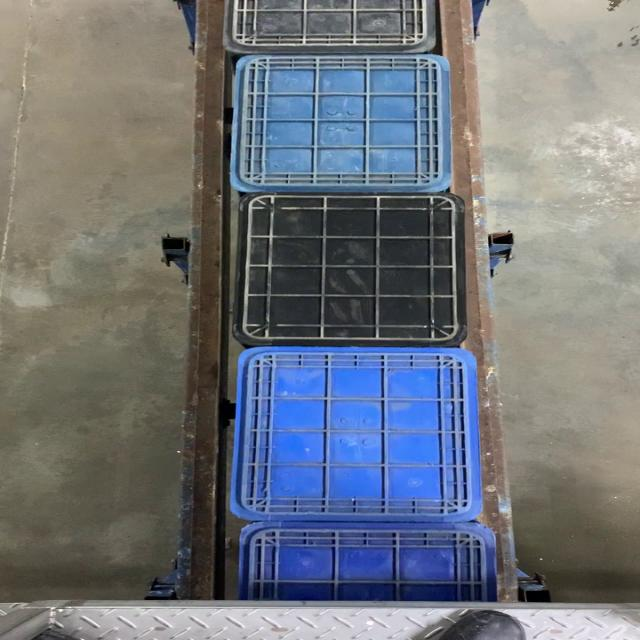Box: (232, 347, 480, 519), (237, 194, 471, 344), (226, 52, 453, 194)
